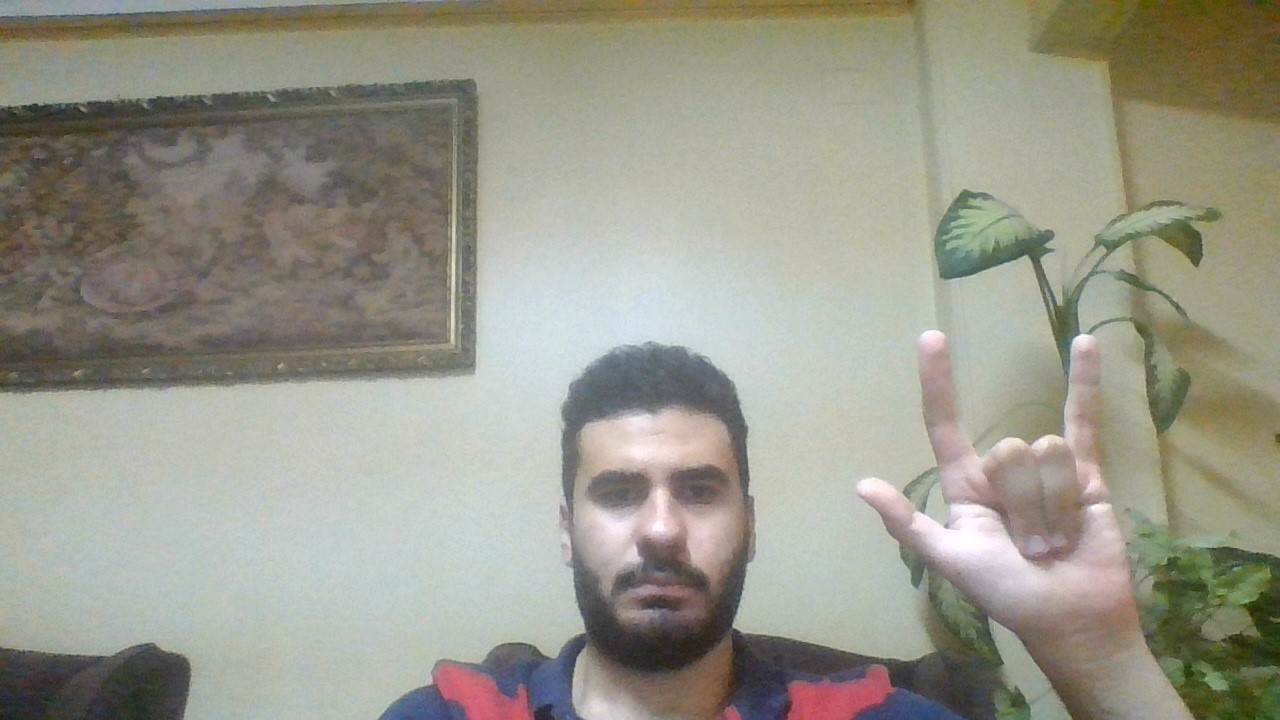love: (855, 313, 1171, 639)
